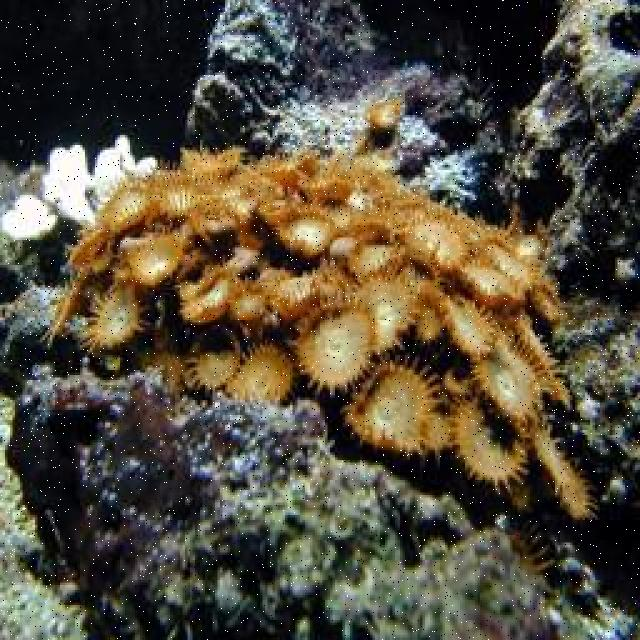reefs: (45, 142, 596, 524), (41, 136, 159, 226), (352, 98, 406, 170), (2, 195, 59, 241)
